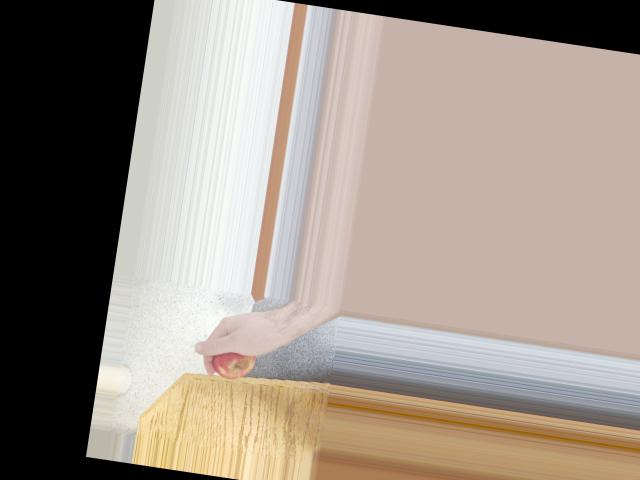apple: (207, 334, 261, 385)
